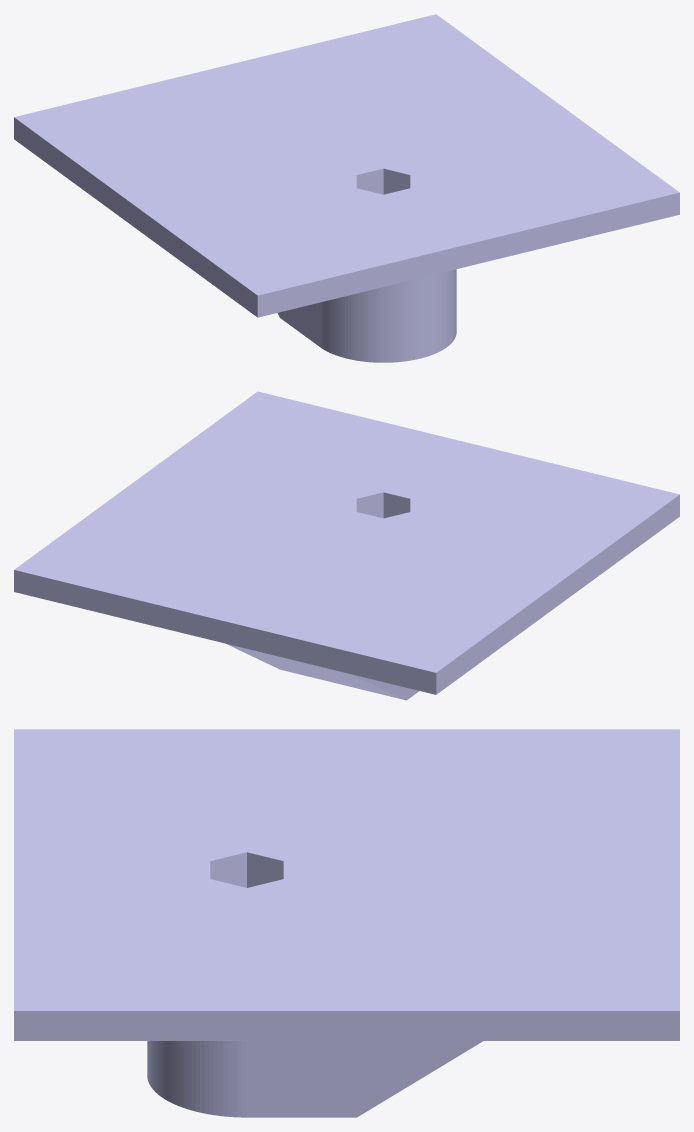
File: Panneau_Solaire.dae
The picture shows the model from 3 angles, top to bottom: view 1: azimuth 30°, elevation 25°; view 2: azimuth 150°, elevation 25°; view 3: azimuth 270°, elevation 25°; orthographic projection. The views are drawn at different scales.
Parts seen in each view (by area): view 1: node0; view 2: node0; view 3: node0.
Part boxes in pixels (bbox=[...]): node0: bbox=[14, 14, 679, 362]; node0: bbox=[14, 391, 679, 700]; node0: bbox=[14, 729, 679, 1117].
Bounding box in the file's own units: 0.1 × 0.1 × 0.034.
